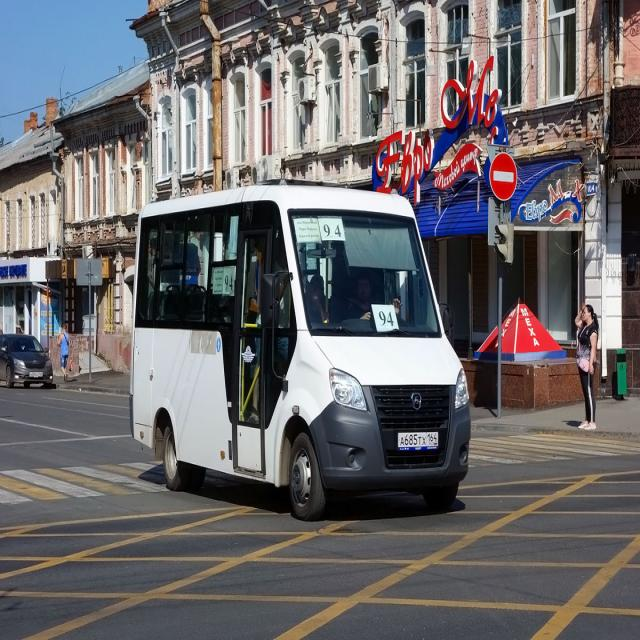number-of-bus: (322, 220, 347, 242), (377, 307, 398, 331)
